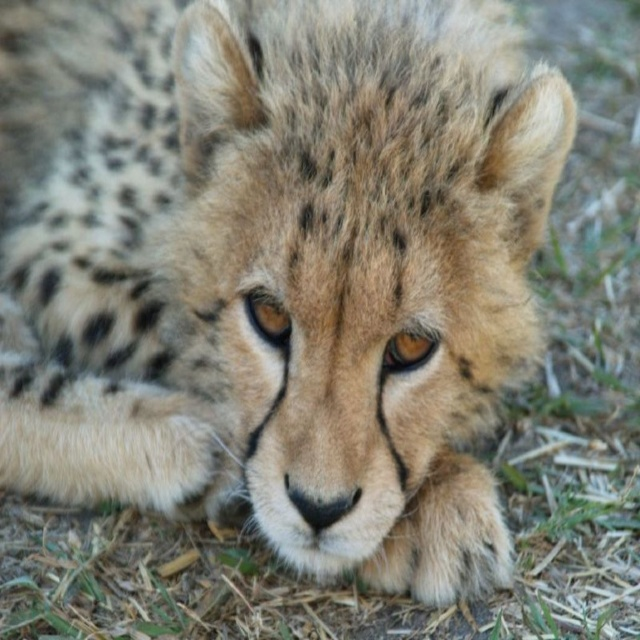Leopard: (0, 0, 576, 617)
